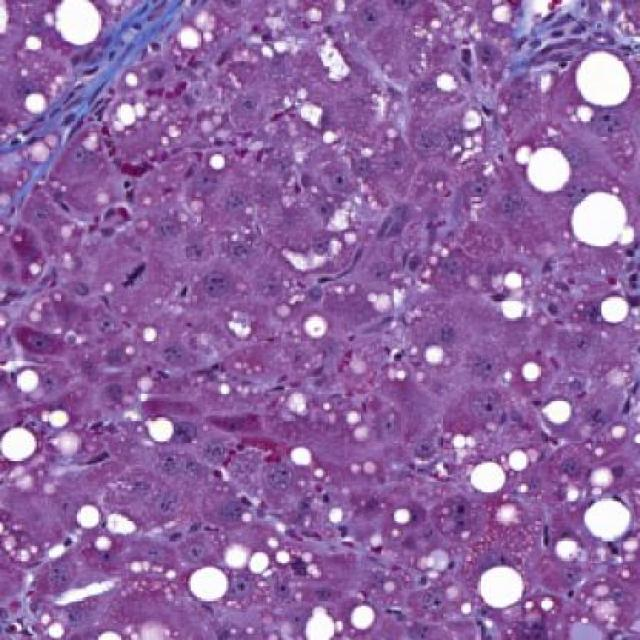fibrosis: (15, 22, 167, 178)
